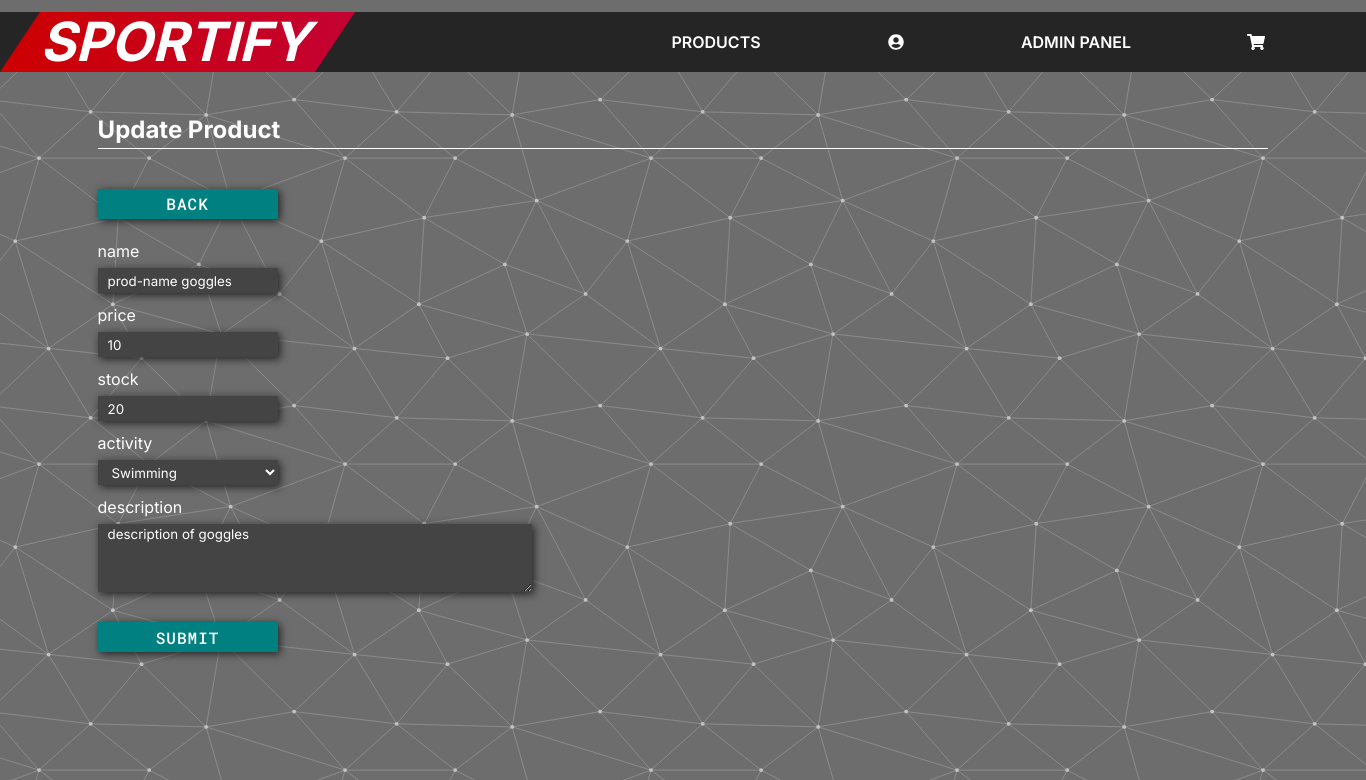
Test case: update product form › displays validation errors and disables submit button
The width and height of the screenshot is (1366, 780).
Clear the field labelled "name". click: (188, 280)
box: [98,268,278,293]
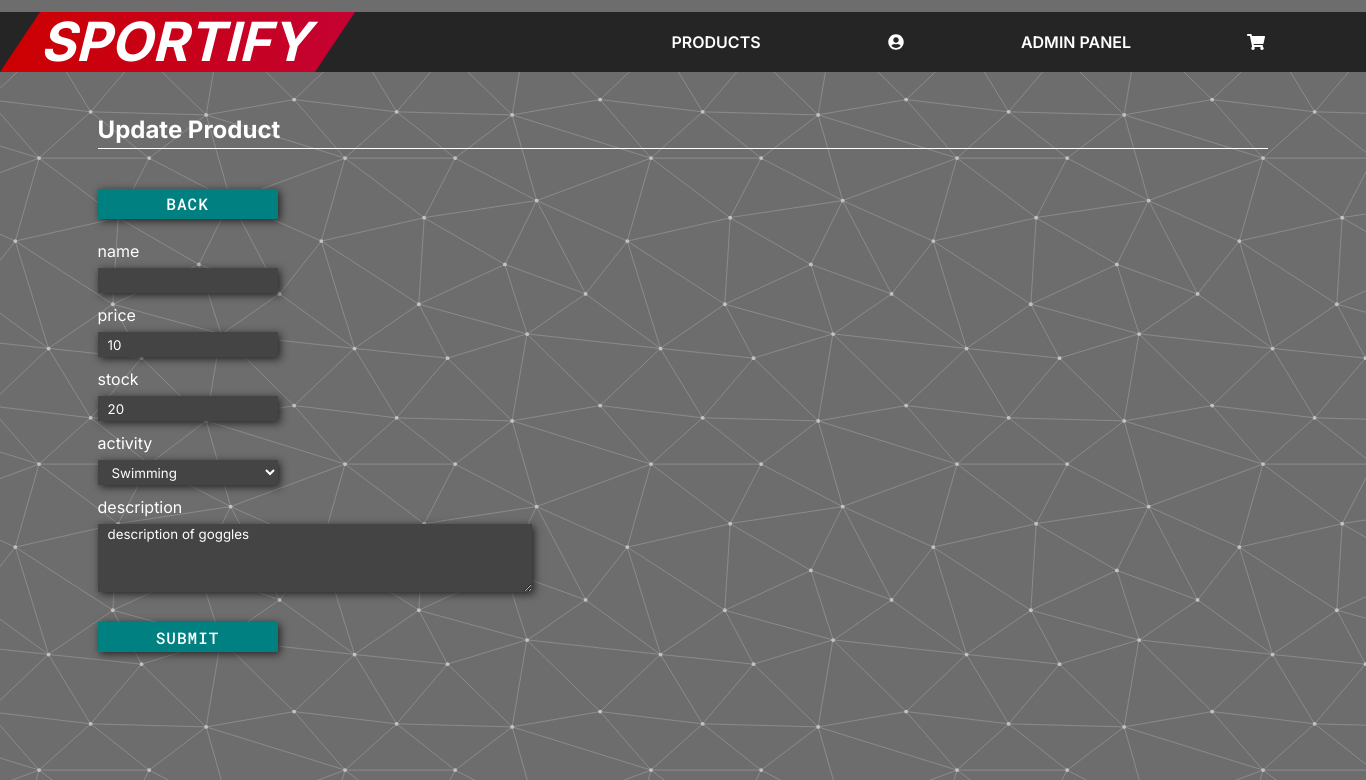
Click the button "Submit". click: (188, 637)
box: [98,622,278,652]
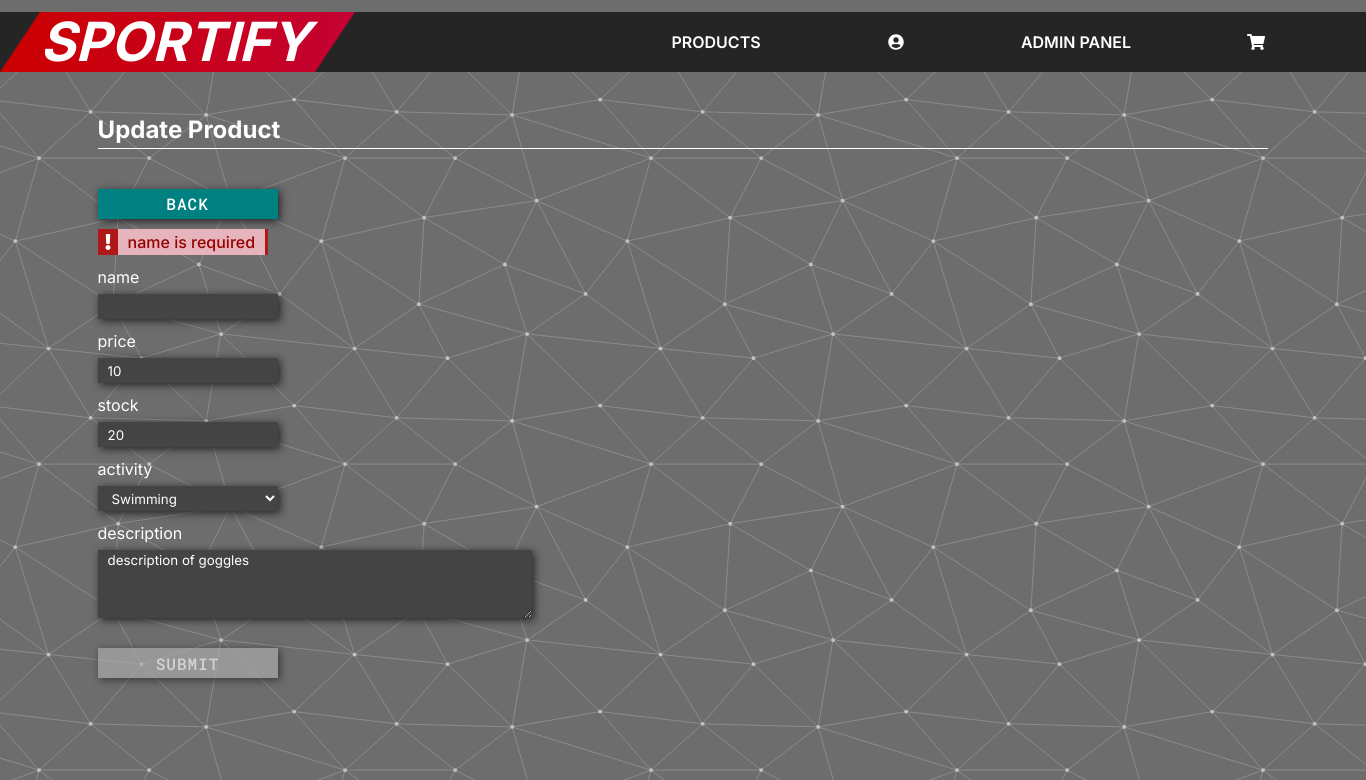
Check: the list item "name is required" is shown, box [118,229,268,255]
Check: the button "Submit" is disabled, box [98,648,278,678]
